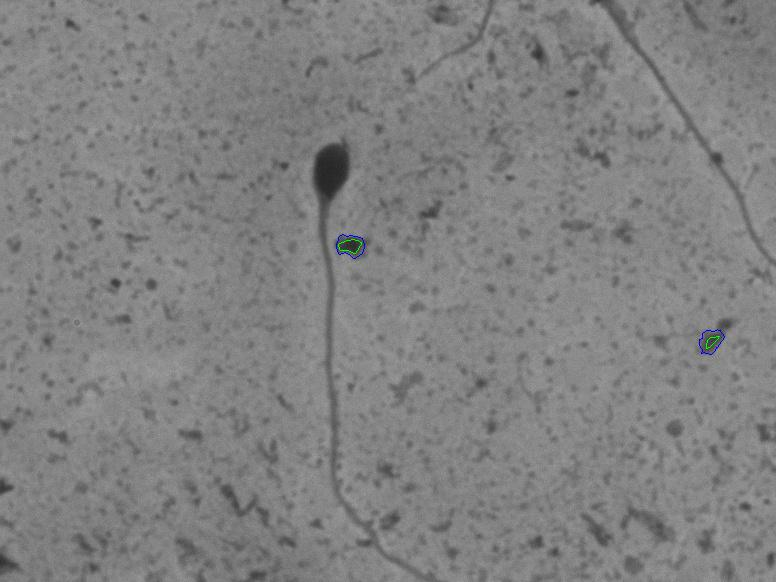Abnormal: (272, 128, 425, 575)
